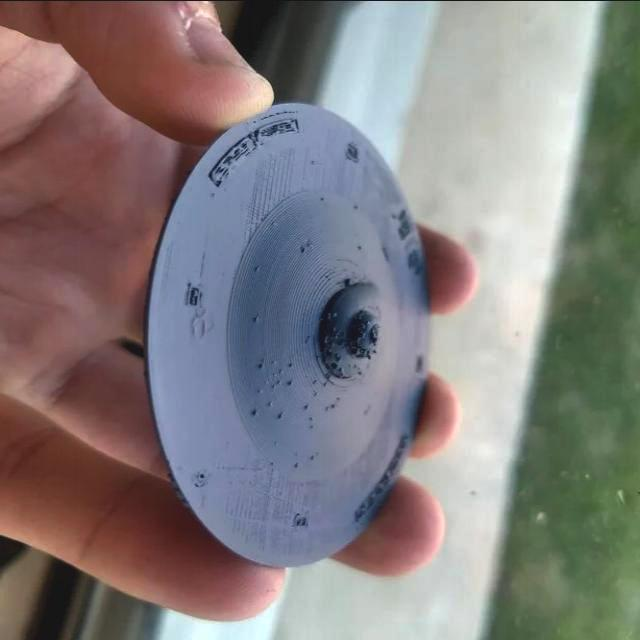zits: (250, 402, 260, 418), (341, 275, 355, 286), (302, 399, 314, 411), (276, 407, 286, 421), (328, 398, 338, 412), (328, 361, 340, 372), (256, 359, 266, 372), (286, 375, 294, 389), (286, 358, 294, 372), (253, 260, 261, 274), (251, 313, 261, 324), (266, 398, 274, 408), (308, 412, 316, 422), (293, 459, 301, 469), (308, 452, 316, 461), (298, 244, 308, 251), (322, 378, 329, 388)
